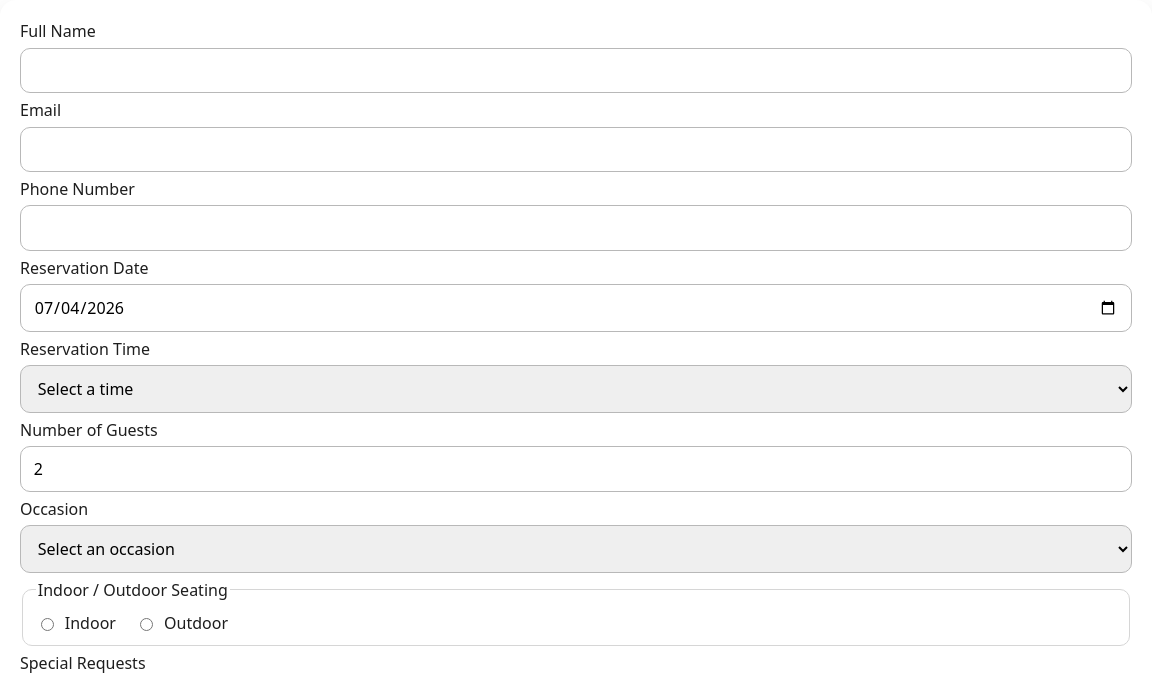
Test case: BookingForm › shows email validation error
Type "invalid-email" into the field labelled "Email" at coordinates (576, 149), box [20, 126, 1132, 172]
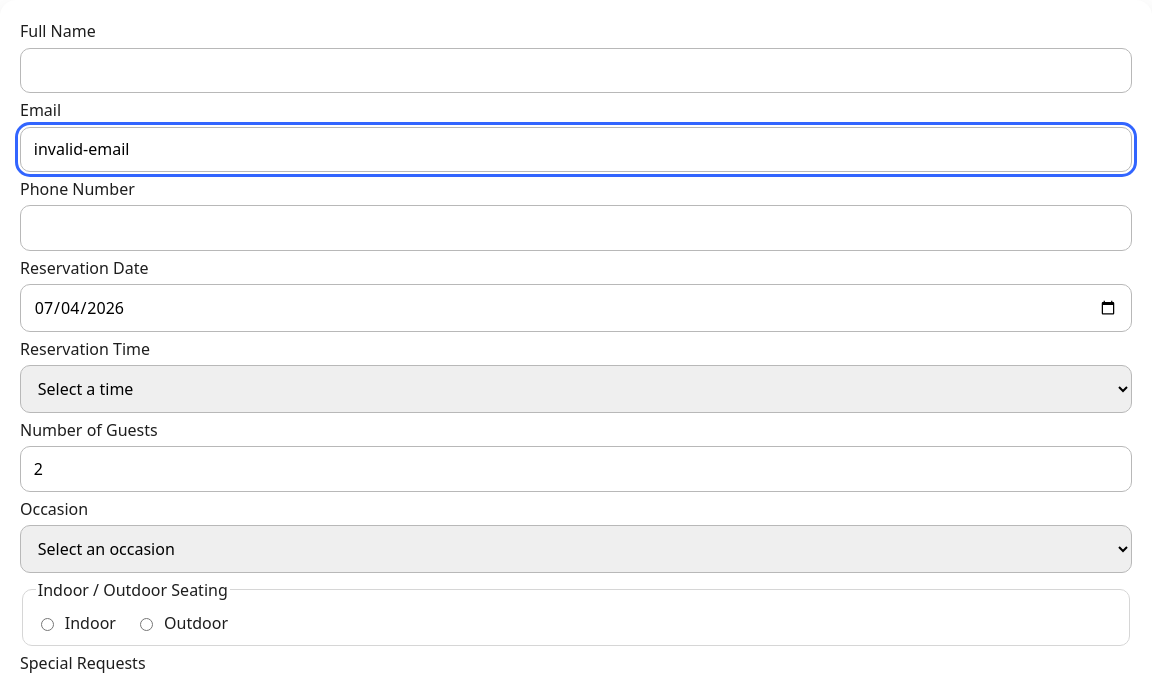
Press Tab
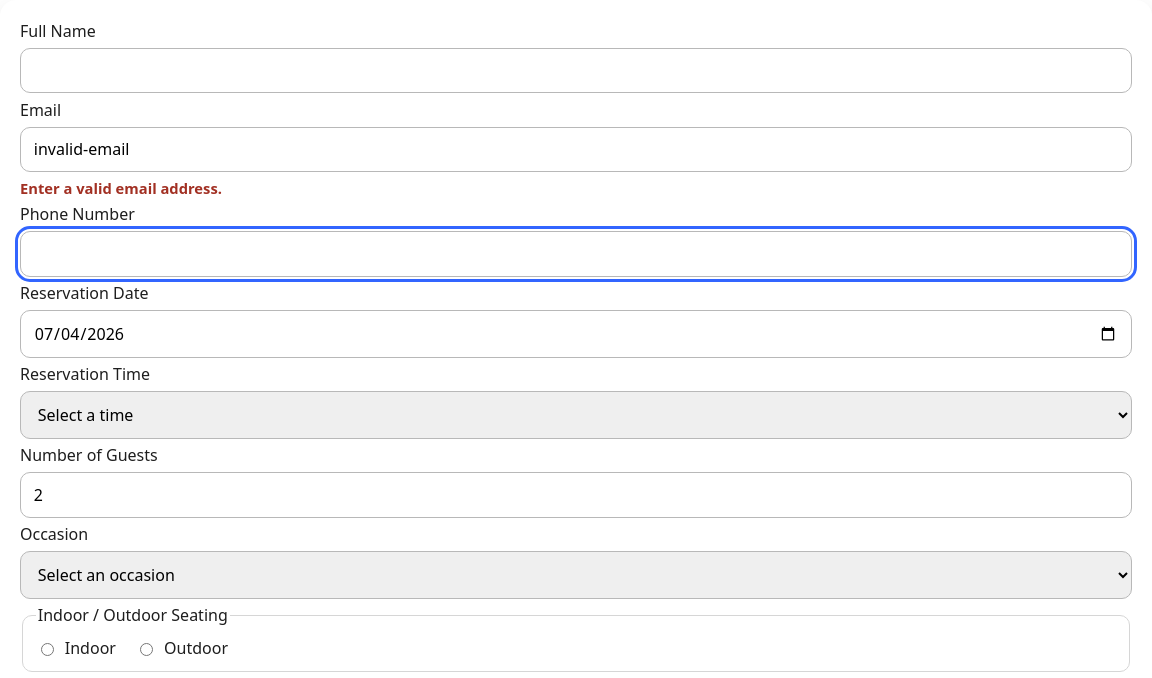
Check: the text "Enter a valid email address." is shown, box [20, 178, 222, 198]
